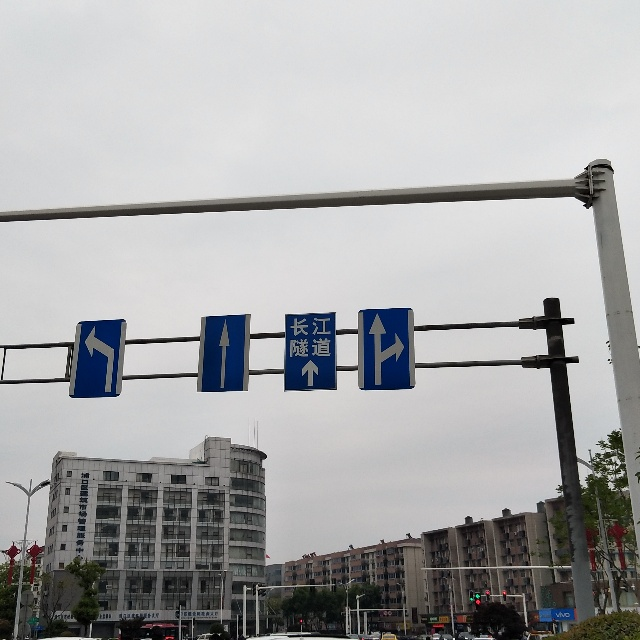left: (69, 314, 119, 404)
straight: (194, 314, 257, 392)
